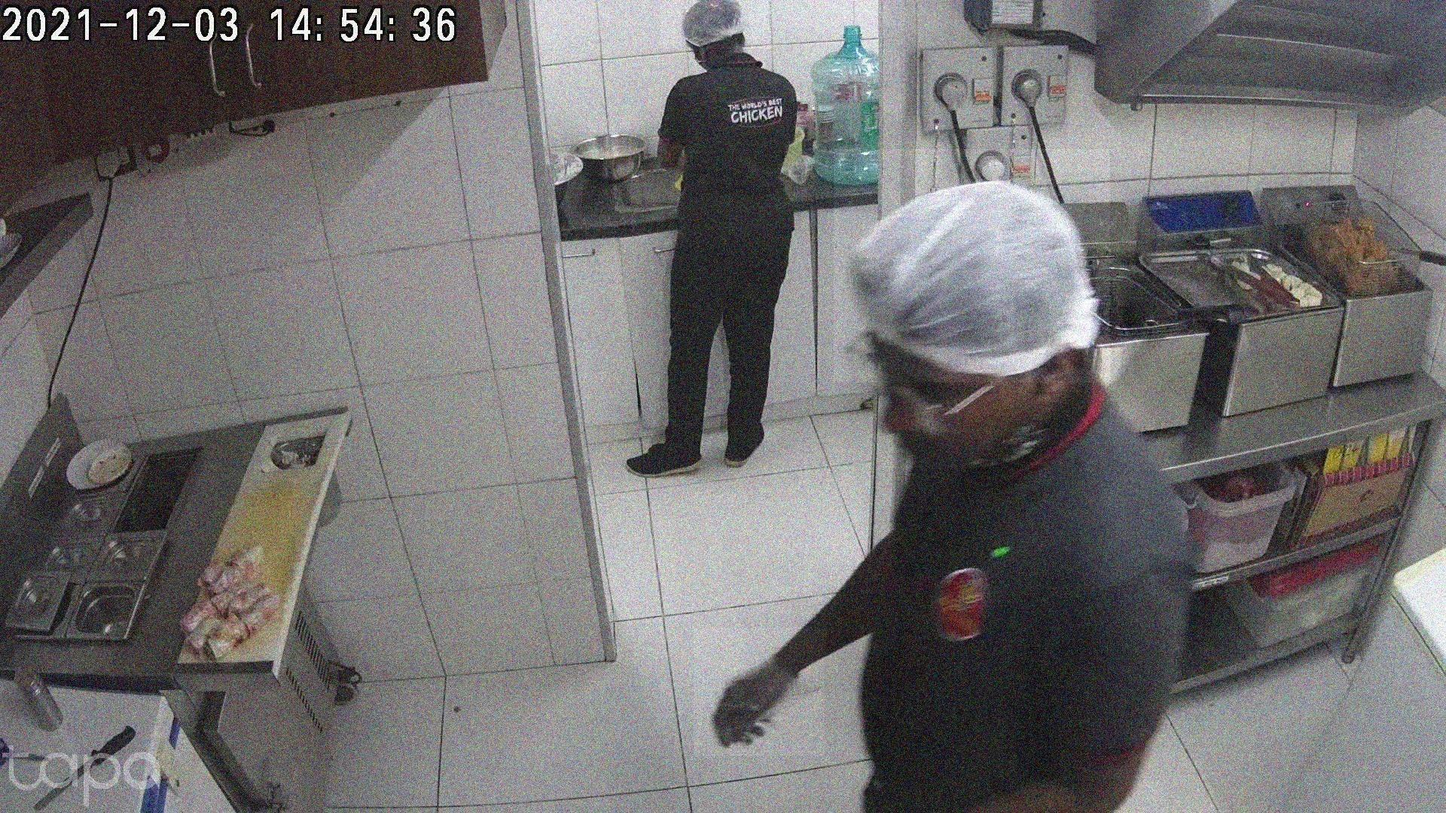apron: (694, 628, 825, 756)
gloves: (834, 149, 1111, 382), (660, 0, 770, 49)
no_hairnet: (878, 344, 994, 469)
